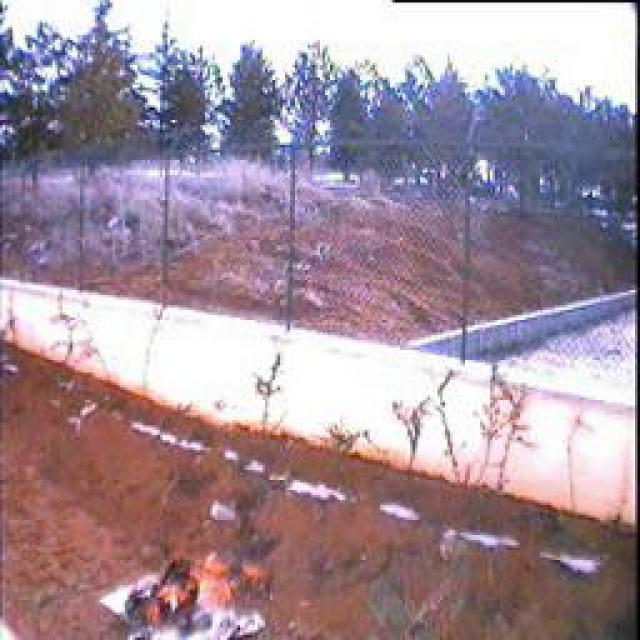Fire: (122, 550, 269, 632)
